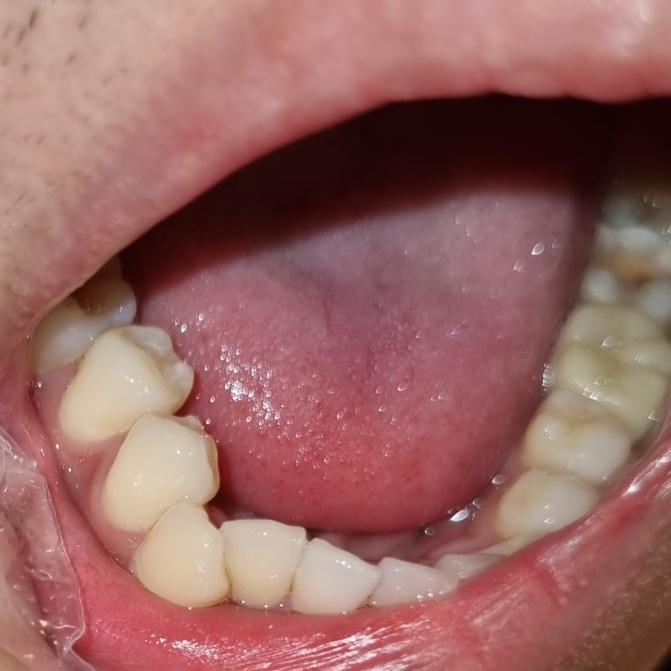Crowding: (142, 506, 297, 604), (295, 534, 463, 617)
